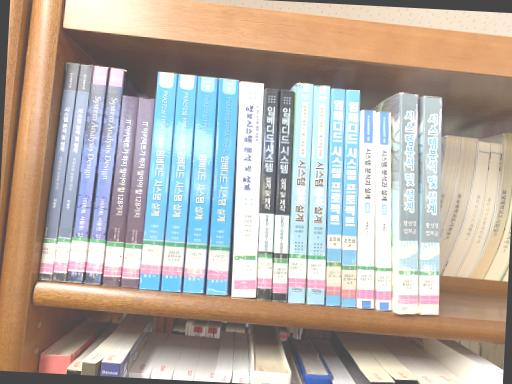book-spine: (37, 63, 79, 281), (66, 66, 108, 284), (84, 68, 125, 284), (53, 65, 92, 282), (139, 72, 177, 291), (161, 74, 196, 291), (183, 76, 218, 293), (232, 81, 264, 298), (102, 95, 138, 286), (207, 78, 238, 294), (121, 97, 155, 288), (287, 83, 313, 303), (307, 86, 330, 305), (419, 97, 441, 314), (272, 90, 293, 302), (398, 92, 418, 314), (326, 89, 346, 306), (258, 89, 278, 300), (341, 90, 359, 307), (358, 110, 375, 309), (376, 111, 391, 310)
